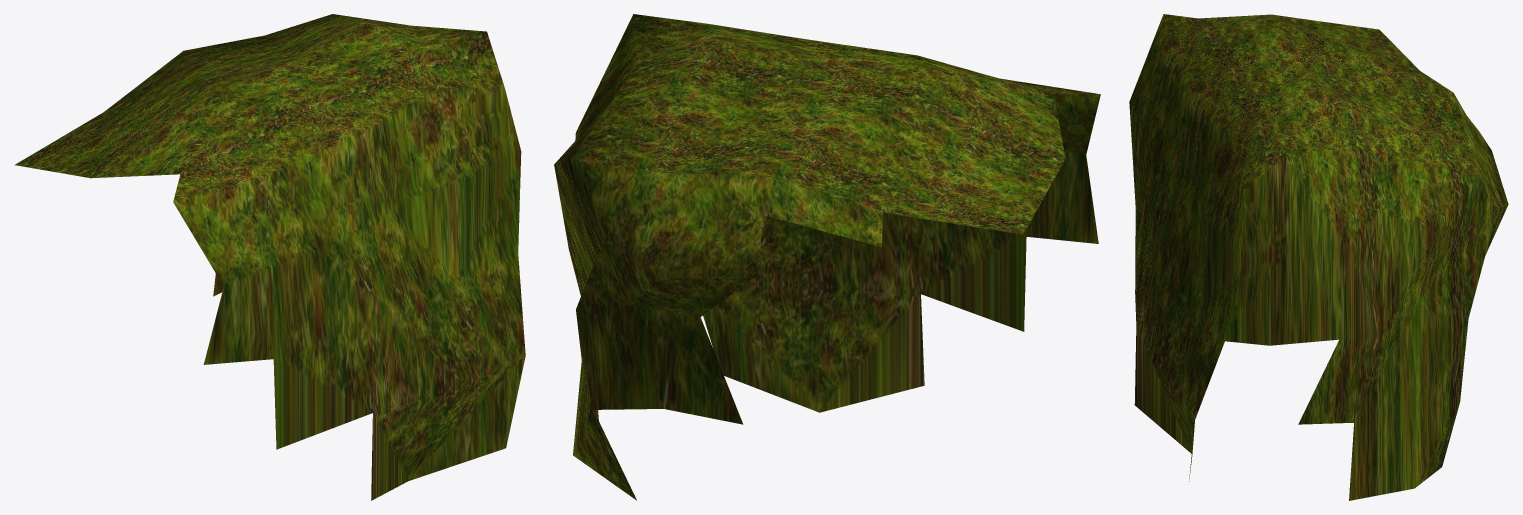
Rendered from TROLLHOLE02_BOX327.fbx.
3 renders of one model, left to right at view 1: azimuth 30°, elevation 25°; view 2: azimuth 150°, elevation 25°; view 3: azimuth 270°, elevation 25°, orthographic. The views are drawn at different scales.
Parts seen in each view (by area): view 1: TROLLHOLE02_BOX327; view 2: TROLLHOLE02_BOX327; view 3: TROLLHOLE02_BOX327.
Boxes of the visible parts, left/top/right/bottom form: TROLLHOLE02_BOX327: left=15, top=14, right=525, bottom=500; TROLLHOLE02_BOX327: left=554, top=14, right=1100, bottom=500; TROLLHOLE02_BOX327: left=1129, top=14, right=1508, bottom=500.
Size of the model in its own units: 98125 by 83881 by 77567.
1 material, 1 textured.
